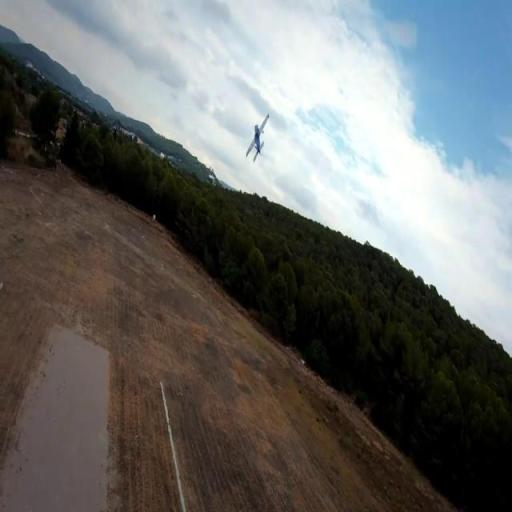uav: (246, 114, 270, 162)
